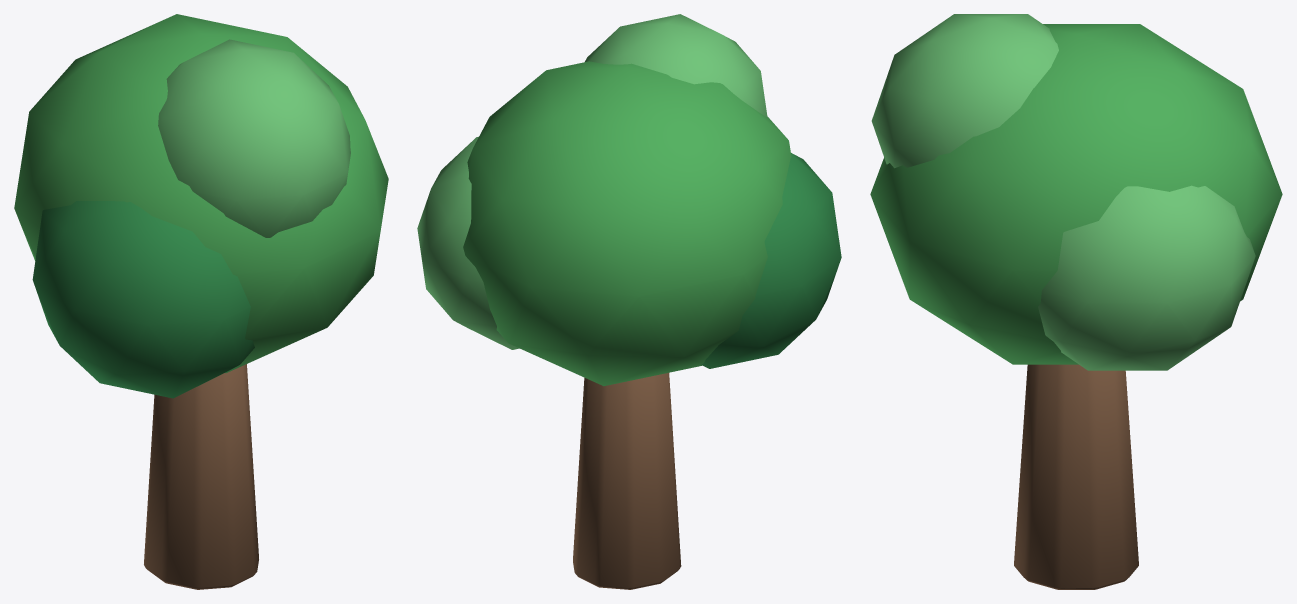
Rendered from tree-round.glb.
The picture shows the model from 3 angles, left to right: view 1: azimuth 30°, elevation 25°; view 2: azimuth 150°, elevation 25°; view 3: azimuth 270°, elevation 25°; orthographic projection. The views are drawn at different scales.
Visible parts, largest first — view 1: tree-round; view 2: tree-round; view 3: tree-round.
Part boxes in pixels (x1=…): tree-round: x1=14, y1=14, x2=388, y2=589; tree-round: x1=417, y1=14, x2=841, y2=589; tree-round: x1=870, y1=14, x2=1282, y2=589.
Size of the model in its own units: 1.02 by 1.5 by 1.02.
